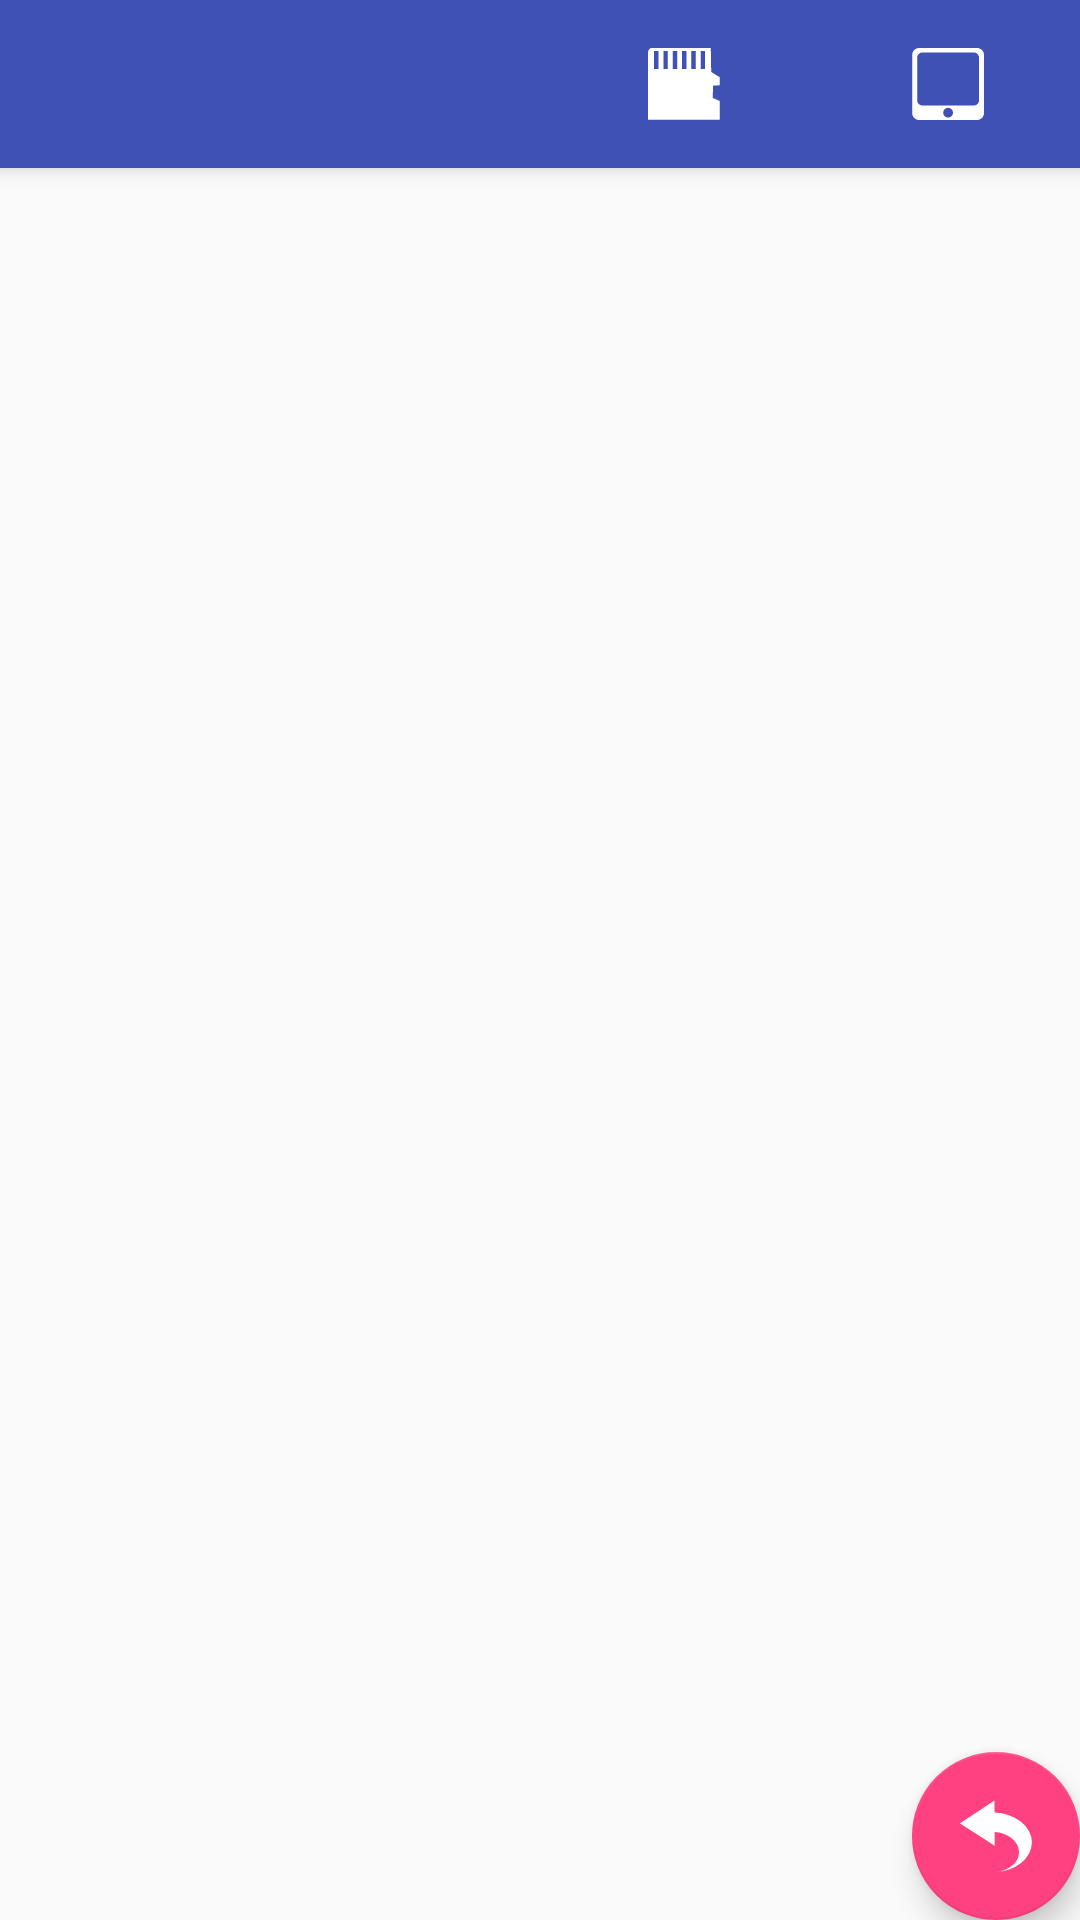

Locate icon controls on the screen. Image size 1080x1920, boxes as (x1, y1, x2, y2).
external memory: (648, 48, 720, 120)
internal memory: (912, 48, 984, 120)
return: (912, 1752, 1080, 1920)
